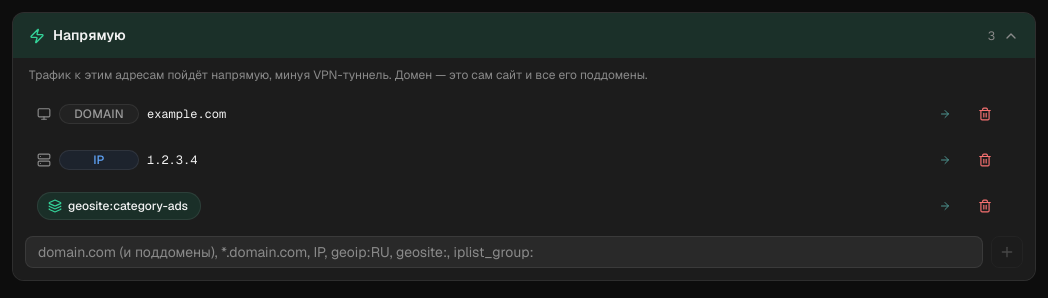
Test: RoutingBlockCard › collapses content when header is clicked
Check: the text "example.com" is shown, box [147,106,226,122]
# Click header button to collapse
Click the button "Напрямую 3" at x=89, y=35, box [13,13,1035,58]
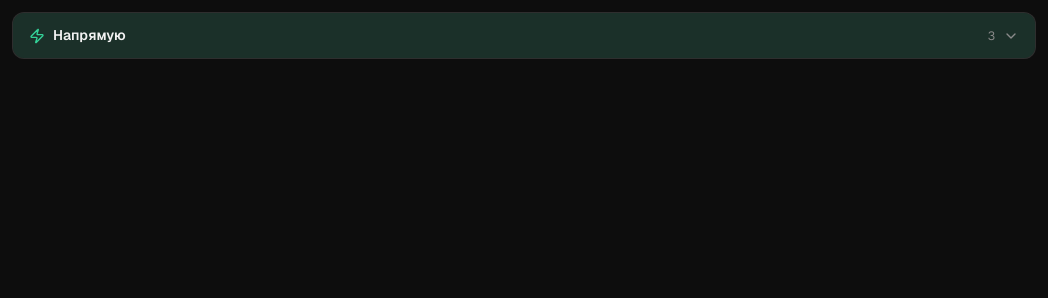
Check: the text "example.com" is gone
